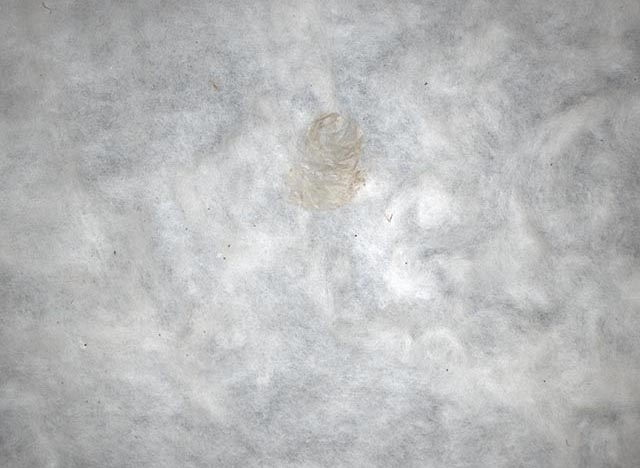plastic film: (285, 113, 367, 210)
